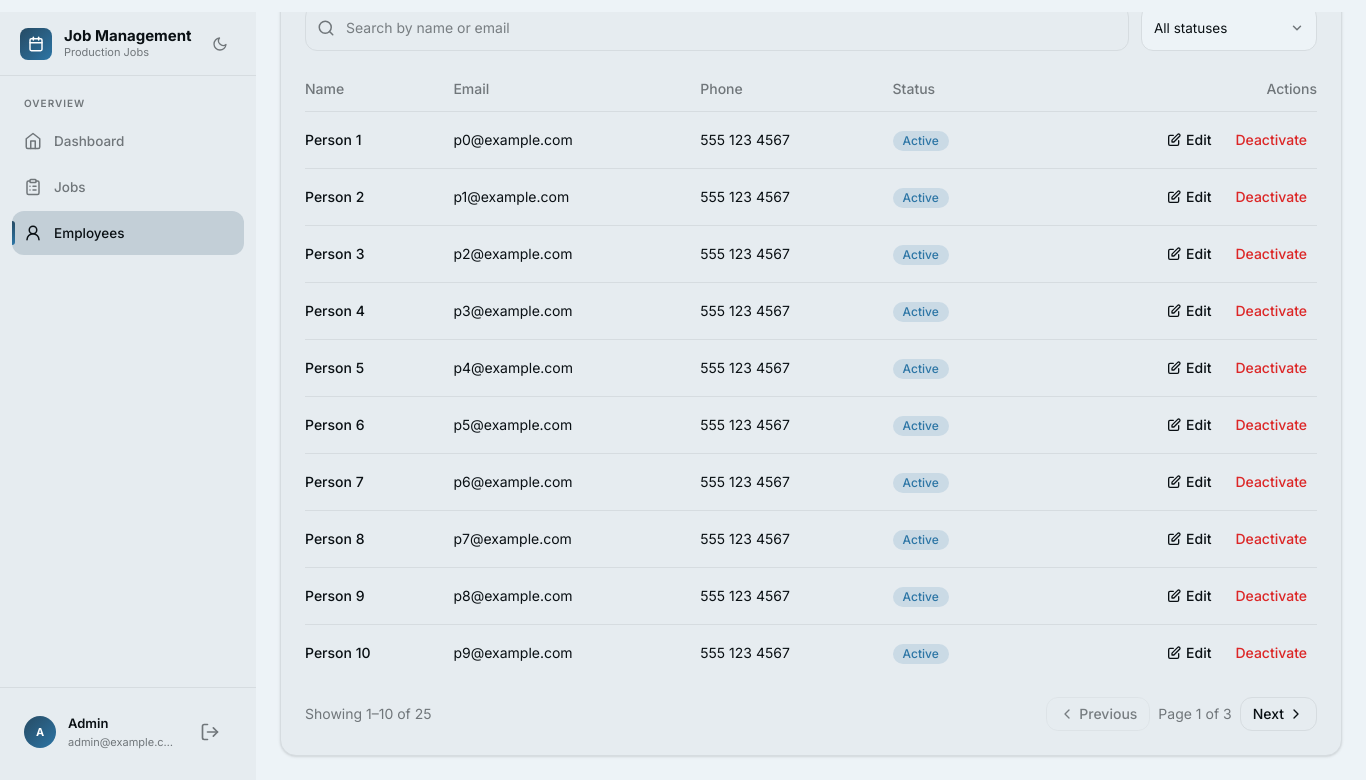
Test: employees filters and paging › pages through the results
The width and height of the screenshot is (1366, 780).
(page scrolled)
Expected: the text "Showing 1–10 of 25" is shown, [305,704,432,724]
Expected: the button "Previous" is disabled, [1046,697,1150,731]
Click the button "Next" at (1278, 714), box [1240,697,1317,731]
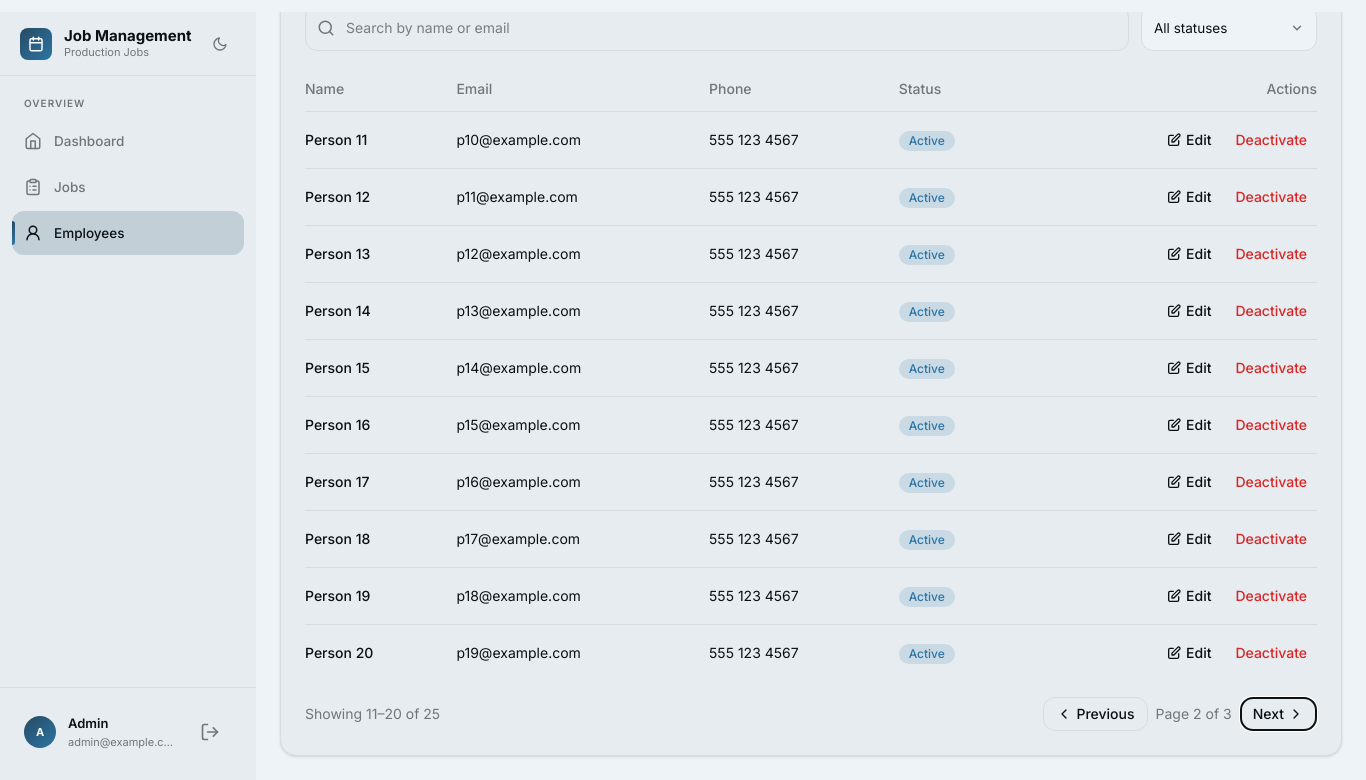
Expected: the text "Showing 11–20 of 25" is shown, [305,704,440,724]
